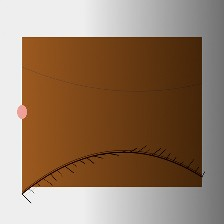hemorrhage_spot: (65, 71, 164, 150)
